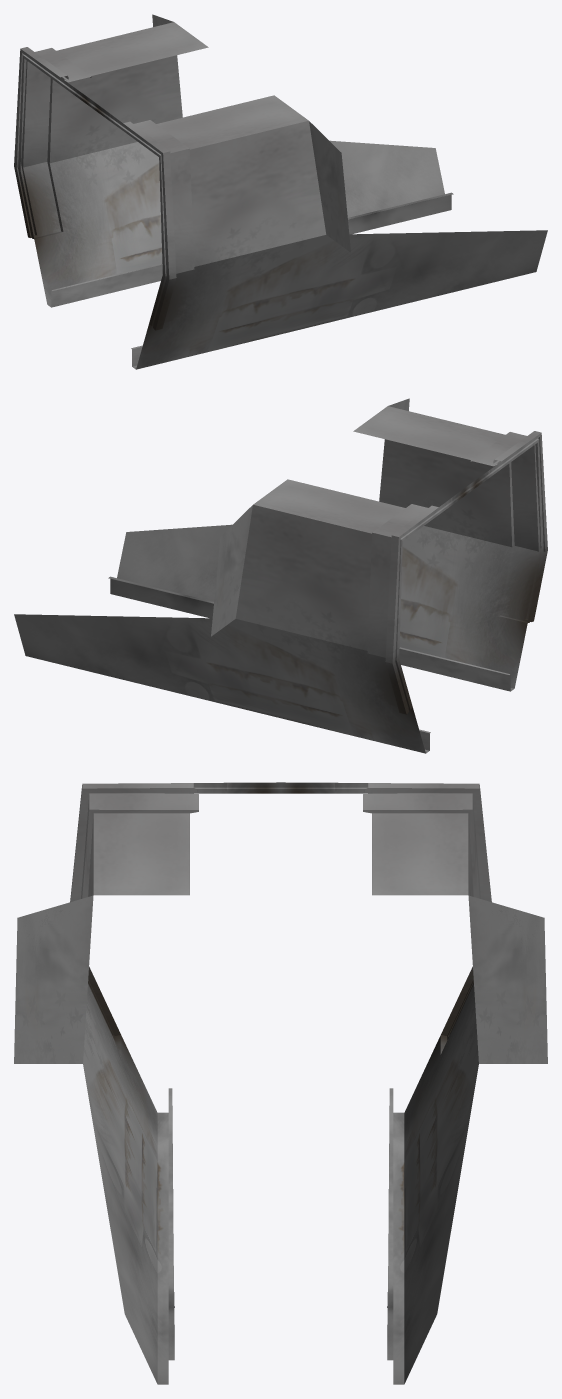
Rendered from cabinaint.fbx.
The picture shows the model from 3 angles, top to bottom: view 1: azimuth 30°, elevation 25°; view 2: azimuth 150°, elevation 25°; view 3: azimuth 270°, elevation 25°; orthographic projection. The views are drawn at different scales.
Visible parts, largest first — view 1: cabinaint; view 2: cabinaint; view 3: cabinaint.
Part boxes in pixels (box(x1,y1,x2,y2)): cabinaint: box(14, 14, 547, 369); cabinaint: box(14, 398, 547, 753); cabinaint: box(14, 782, 547, 1384).
Bounding box in the file's own units: 35.02 × 19.83 × 29.07.
